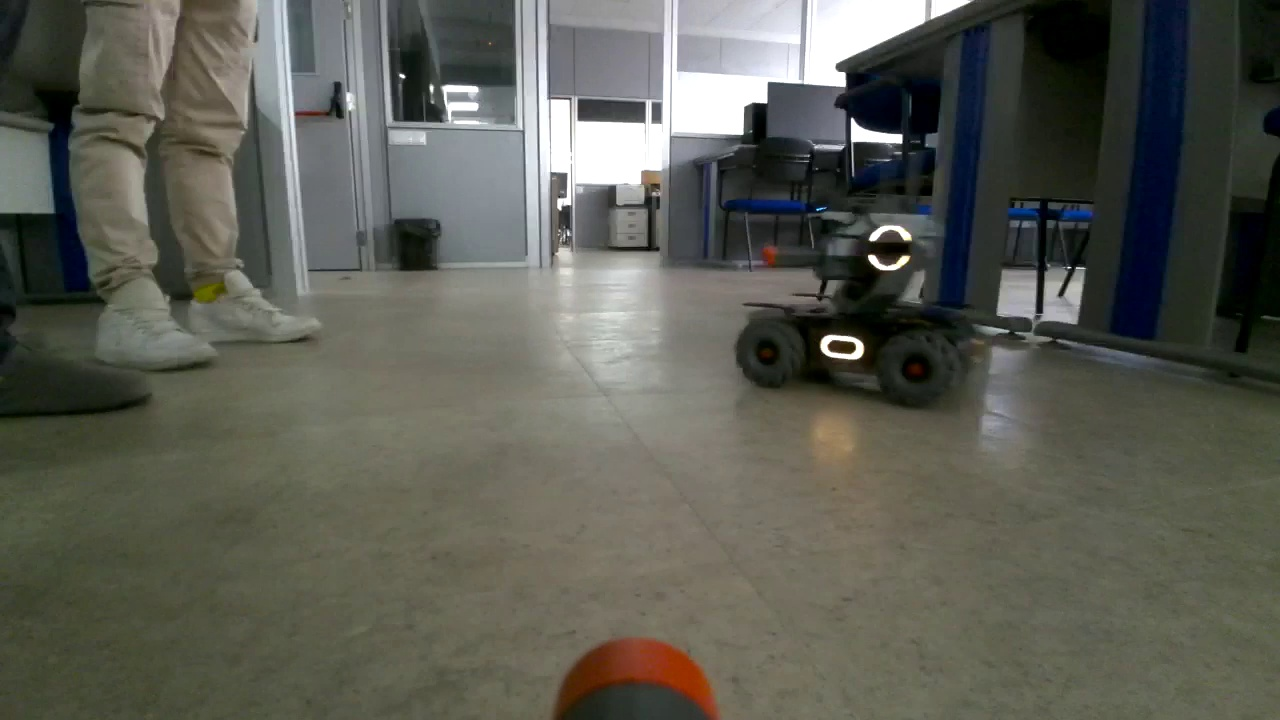robot: (735, 192, 973, 410)
